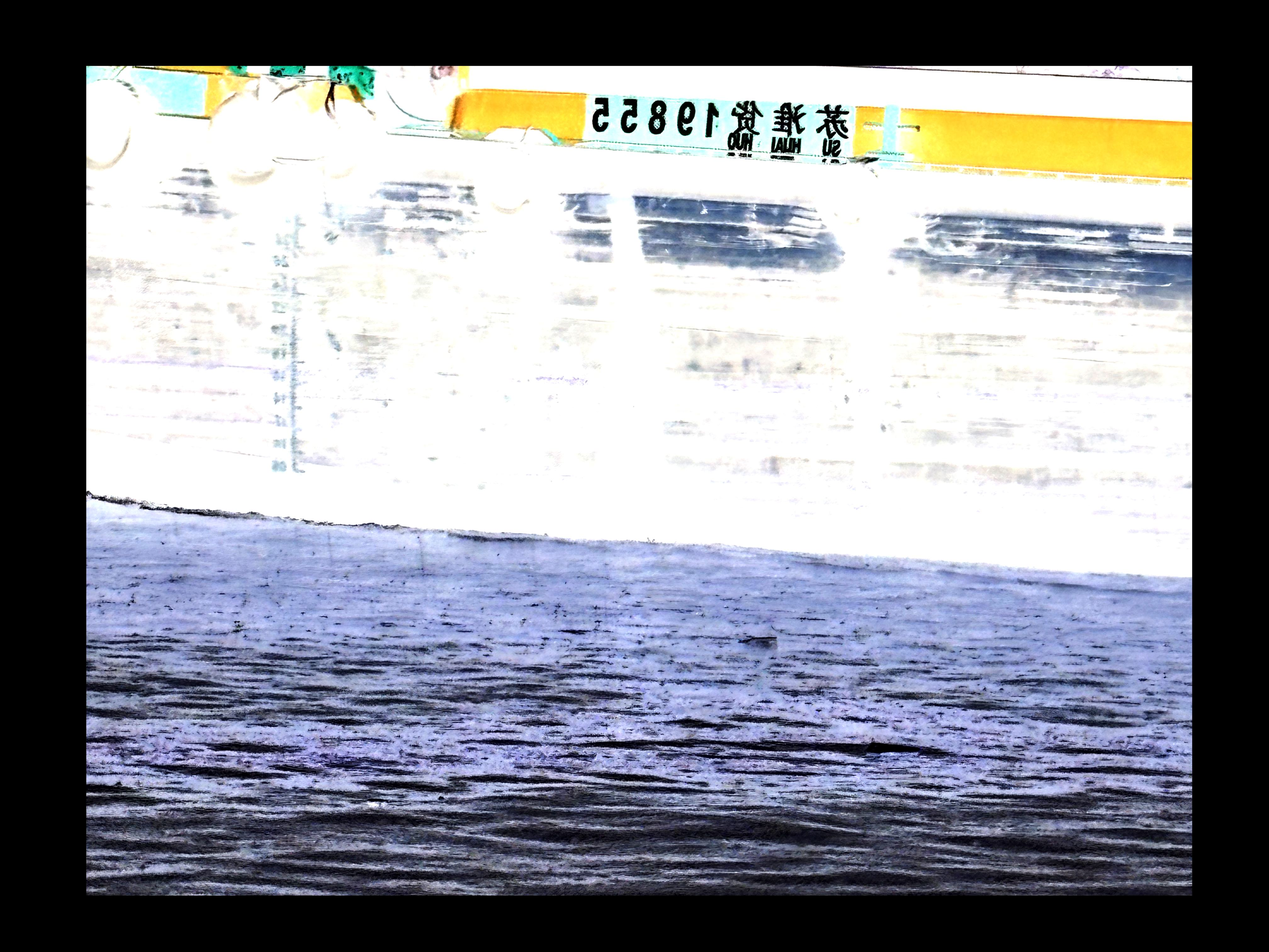Plastic wastes: (738, 632, 780, 646), (366, 796, 389, 811)
